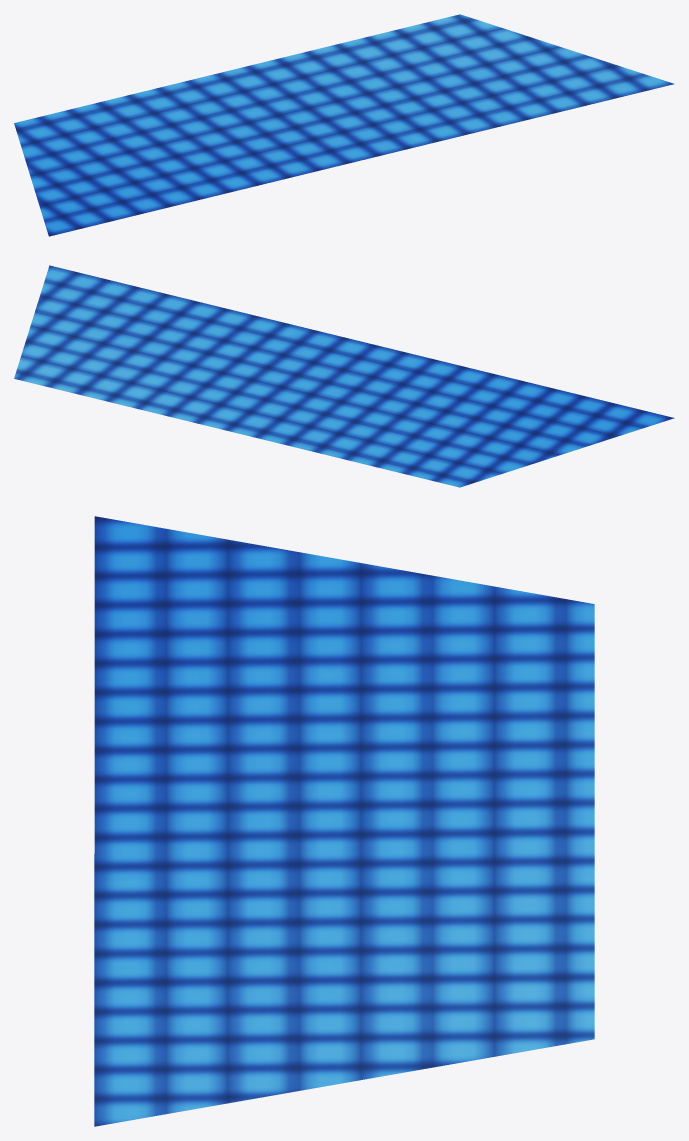
The model's file is FUS0110022.fbx.
3 renders of one model, top to bottom at view 1: azimuth 30°, elevation 25°; view 2: azimuth 150°, elevation 25°; view 3: azimuth 270°, elevation 25°, orthographic. The views are drawn at different scales.
Visible parts, largest first — view 1: smFUS0110022; view 2: smFUS0110022; view 3: smFUS0110022.
Part boxes in pixels (x1,y1,x2,y2): smFUS0110022: (14, 14, 674, 236); smFUS0110022: (14, 265, 674, 487); smFUS0110022: (94, 516, 594, 1126).
Bounding box in the file's own units: 2405 × 0.000244 × 833.
1 material, 1 textured.
